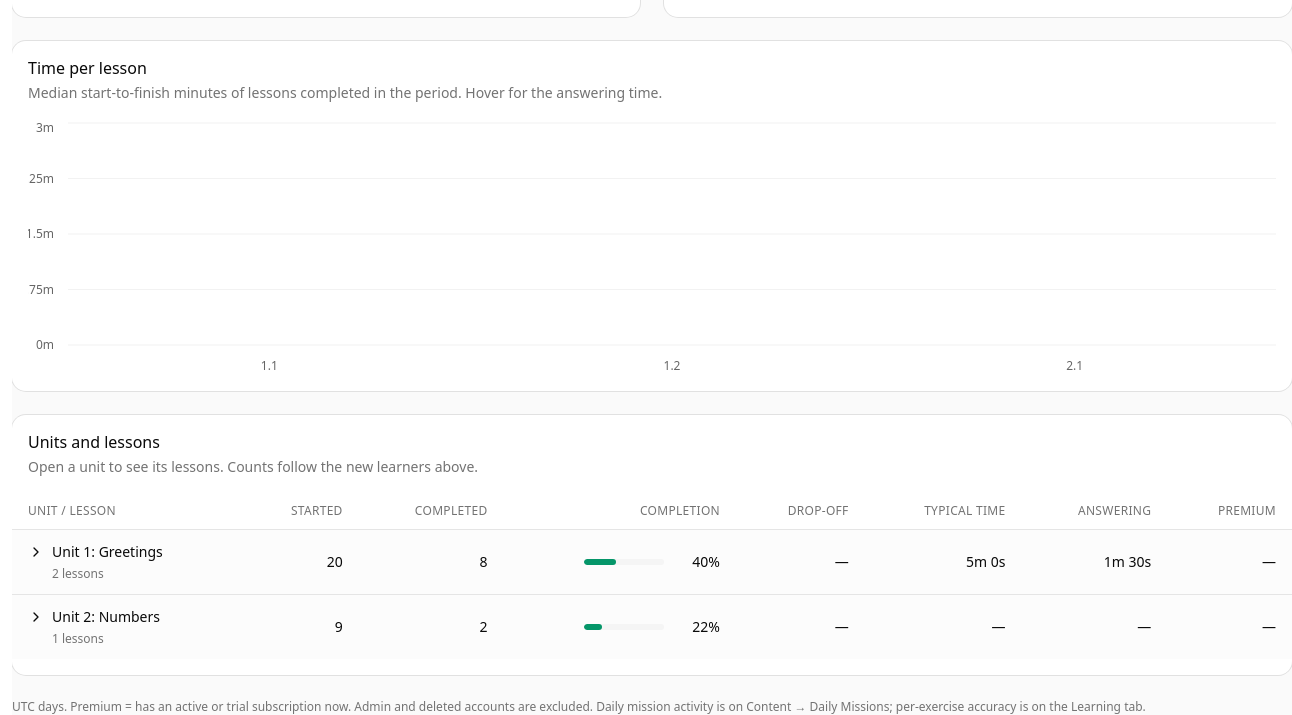
Test case: LearningPathContent › expands a unit to show its lessons with drop-off and time
(page scrolled)
Check: the text "Goodbye" is not shown
What coordinates should you click on to do the following:
click the button with aria-label "Show lessons in Greetings"
I would click on:
 (95, 552)
Its box is [28,542,163,562].
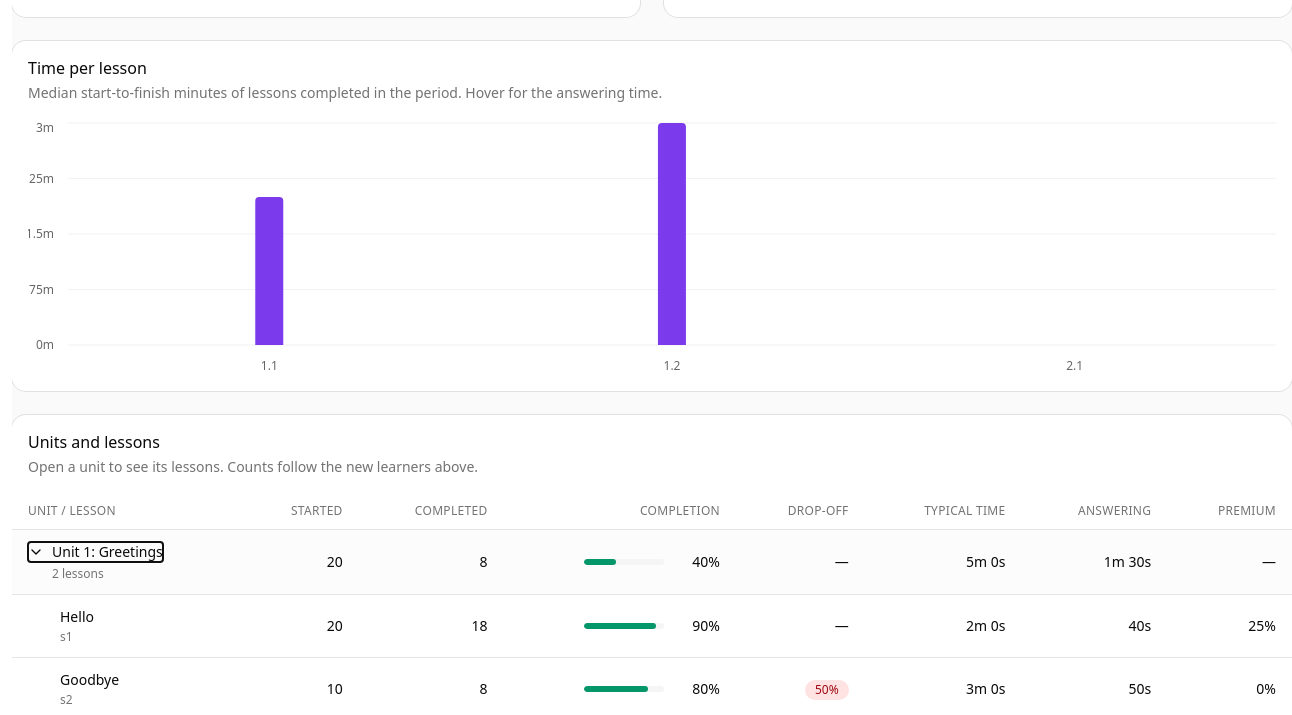
Check: the text "5m 0s" is shown, box [865,530,1022,594]
Check: the text "80%" is shown, box [692,679,720,698]
Check: the text "50%" is shown, box [805,680,849,700]
